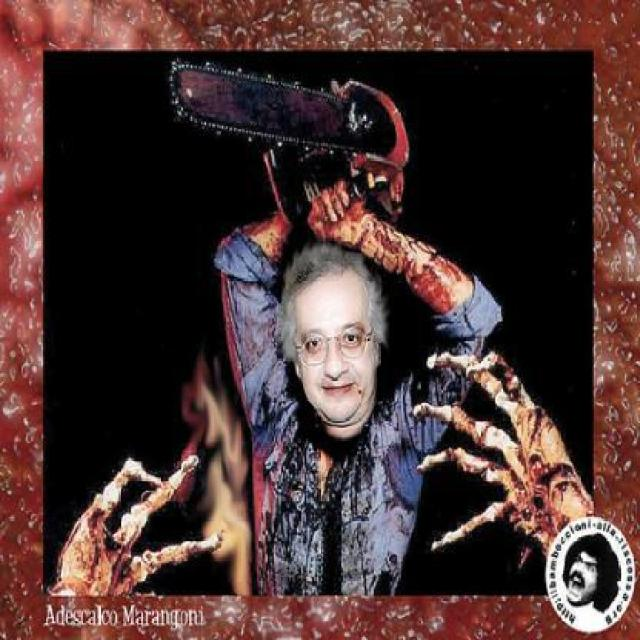Chainsaw: (165, 58, 412, 222)
